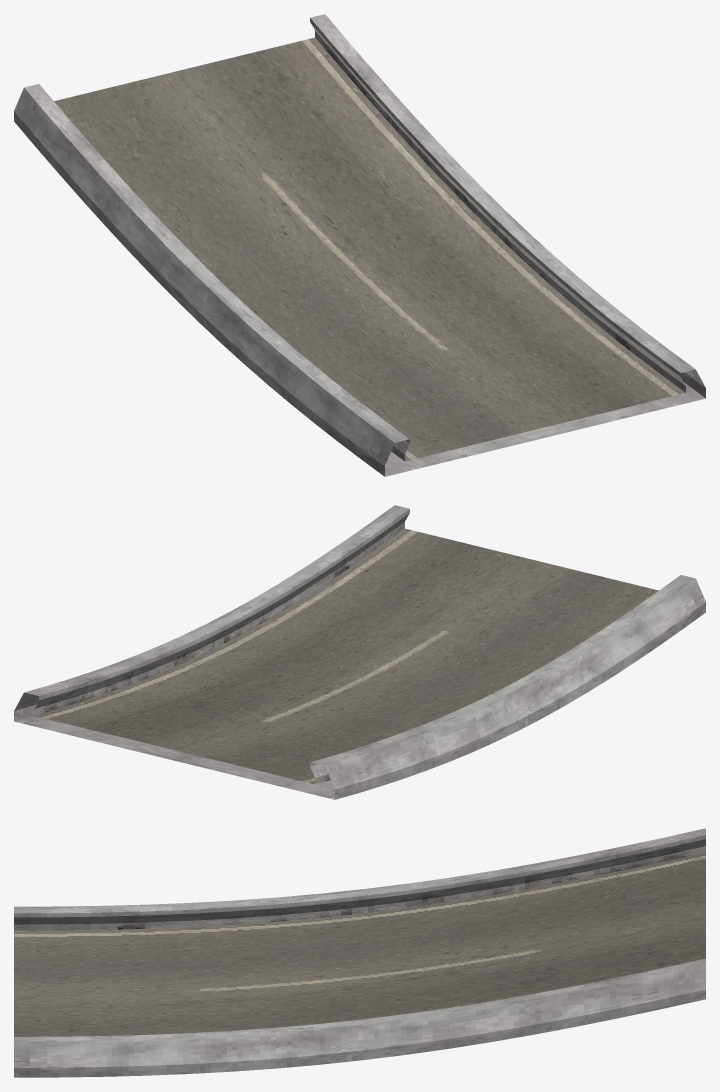
File: straight2.glb
The picture shows the model from 3 angles, top to bottom: view 1: azimuth 30°, elevation 25°; view 2: azimuth 150°, elevation 25°; view 3: azimuth 270°, elevation 25°; orthographic projection. The views are drawn at different scales.
Visible parts, largest first — view 1: road-Straight-Flat-BiSlopeUp-Up1-Center-Size2; view 2: road-Straight-Flat-BiSlopeUp-Up1-Center-Size2; view 3: road-Straight-Flat-BiSlopeUp-Up1-Center-Size2.
Part boxes in pixels (left/top/right/bottom): road-Straight-Flat-BiSlopeUp-Up1-Center-Size2: left=14, top=14, right=705, bottom=476; road-Straight-Flat-BiSlopeUp-Up1-Center-Size2: left=14, top=505, right=705, bottom=799; road-Straight-Flat-BiSlopeUp-Up1-Center-Size2: left=14, top=828, right=705, bottom=1077.
Bounding box in the file's own units: 1 × 0.3438 × 2.
2 materials, 2 textured.
